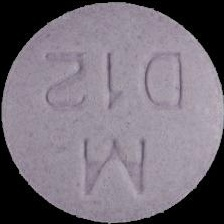54868-4767: (0, 0, 224, 224)
